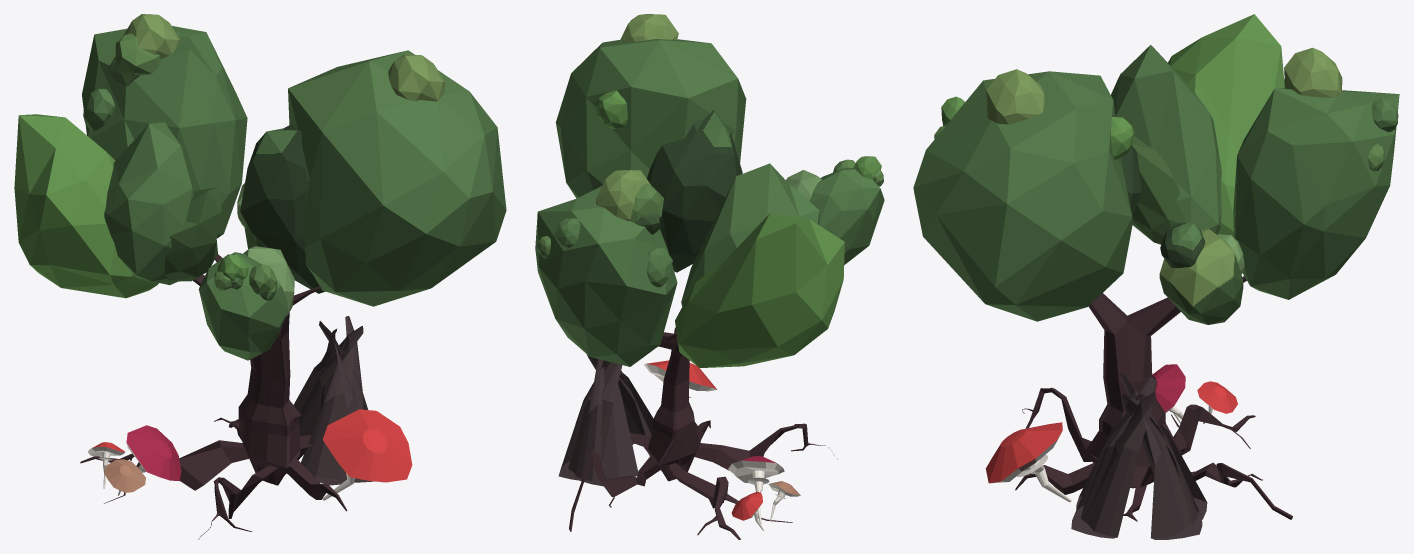
File: home_base2.fbx
3 views of the same model, side by side, from view 1: azimuth 30°, elevation 25°; view 2: azimuth 150°, elevation 25°; view 3: azimuth 270°, elevation 25° (orthographic). The views are drawn at different scales.
Parts seen in each view (by area): view 1: Cube.003; view 2: Cube.003; view 3: Cube.003.
Part boxes in pixels (x1=…): Cube.003: x1=14, y1=14, x2=506, y2=539; Cube.003: x1=535, y1=14, x2=884, y2=539; Cube.003: x1=913, y1=14, x2=1399, y2=539.
Bounding box in the file's own units: 1752 × 2045 × 1913.
